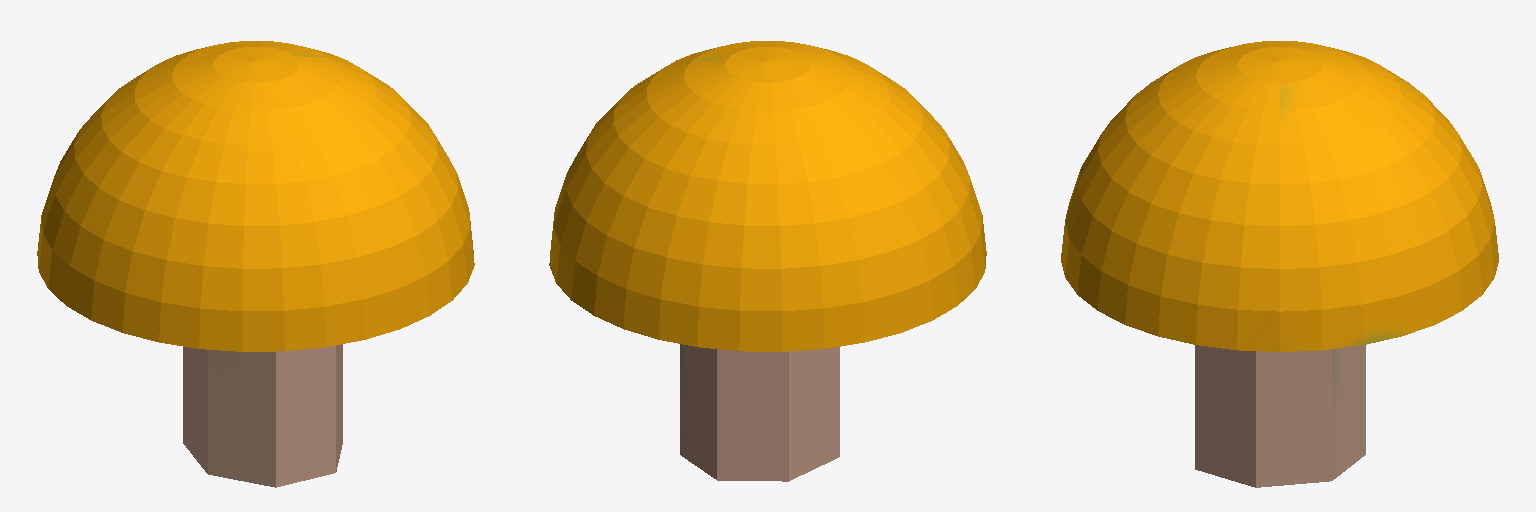
3 views of the same model, side by side, from view 1: azimuth 30°, elevation 25°; view 2: azimuth 150°, elevation 25°; view 3: azimuth 270°, elevation 25° (orthographic).
Visible parts, largest first — view 1: Sphere.001; view 2: Sphere.001; view 3: Sphere.001.
Part boxes in pixels (x1,y1,x2,y2): Sphere.001: (37, 41, 474, 487); Sphere.001: (549, 41, 986, 481); Sphere.001: (1061, 41, 1498, 487).
Size of the model in its own units: 0.3843 by 0.3774 by 0.3843.
Materials: 1 (1 with a texture image).